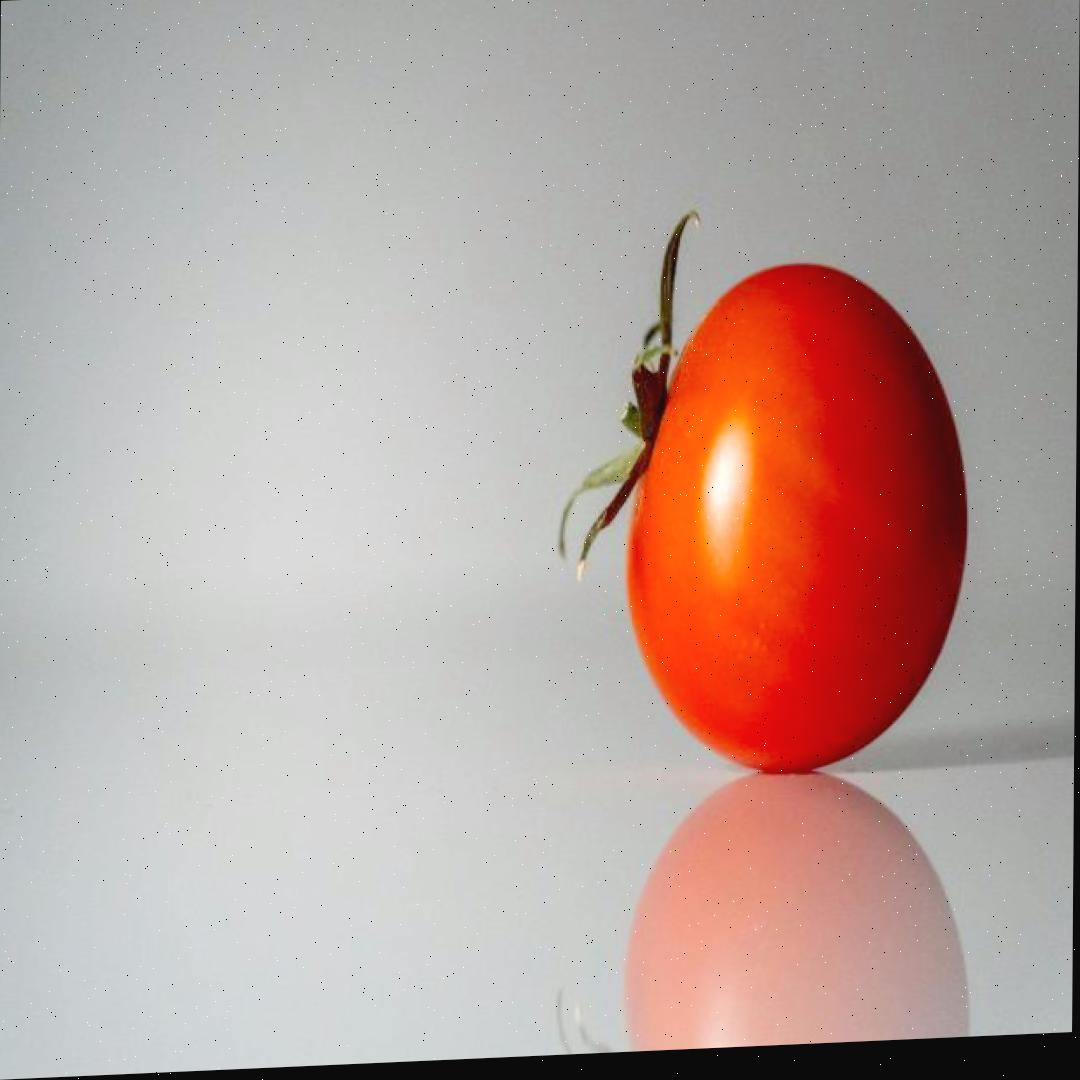matang: (620, 255, 969, 778)
